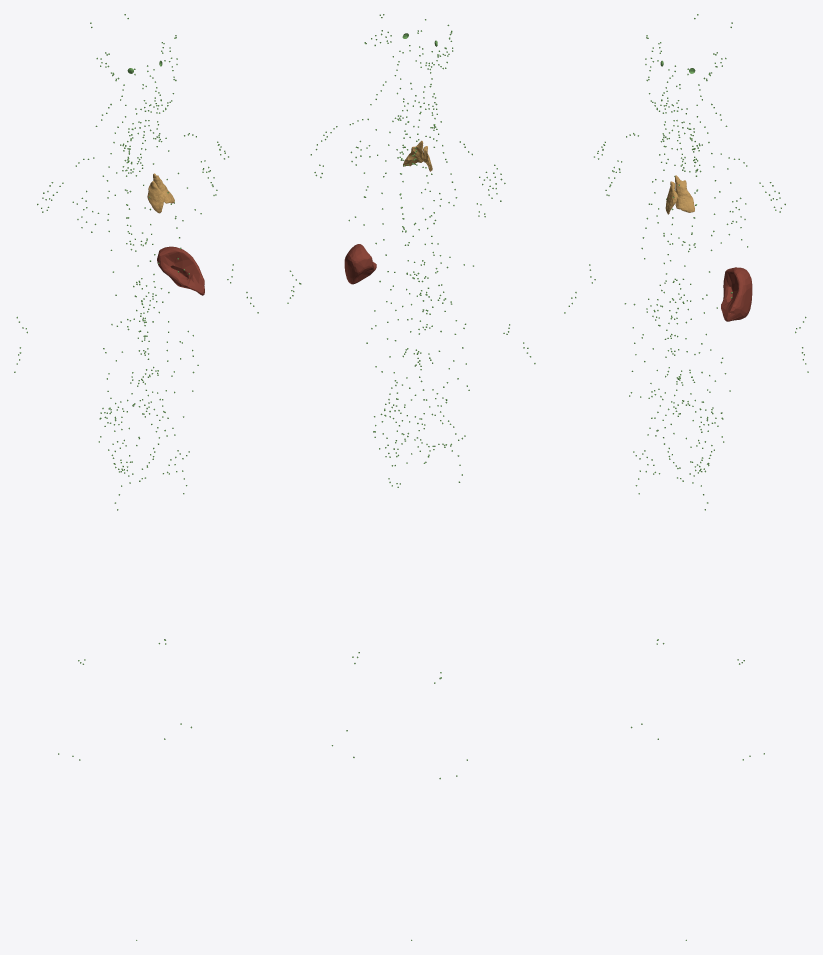
File: lymph.glb
The picture shows the model from 3 angles, left to right: view 1: azimuth 30°, elevation 25°; view 2: azimuth 150°, elevation 25°; view 3: azimuth 330°, elevation 25°; orthographic projection.
Visible parts, largest first — view 1: Spleen; view 2: Spleen; view 3: Spleen.
Part boxes in pixels (<box>): Spleen: <box>157,246,204,295</box>; Spleen: <box>344,244,376,284</box>; Spleen: <box>721,267,752,321</box>.
Size of the model in its own units: 0.4638 by 1.63 by 0.2014.
